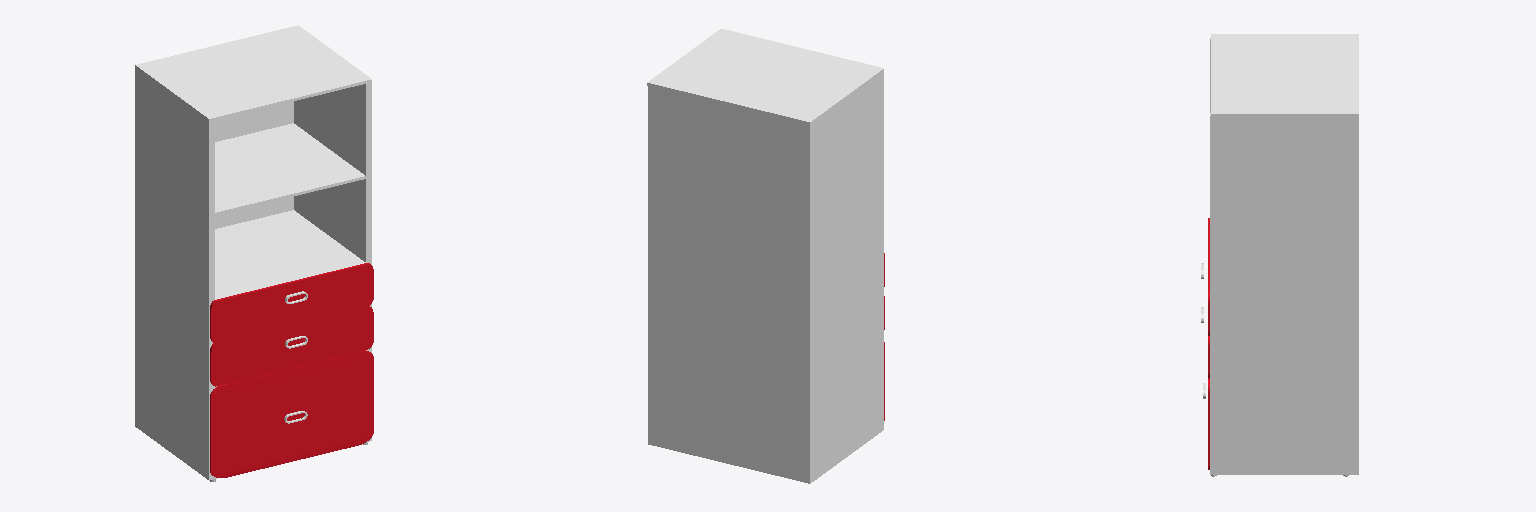
The model's file is StorageFurniture_StuvaFritidsBookcaseRed.obj.
3 renders of one model, left to right at view 1: azimuth 30°, elevation 25°; view 2: azimuth 150°, elevation 25°; view 3: azimuth 270°, elevation 25°, orthographic.
Parts seen in each view (by area): view 1: obj_0; view 2: obj_0; view 3: obj_0.
Part boxes in pixels (bbox=[...]): obj_0: bbox=[135, 25, 373, 481]; obj_0: bbox=[647, 29, 884, 483]; obj_0: bbox=[1201, 34, 1358, 476].
Size of the model in its own units: 60 by 128 by 50.